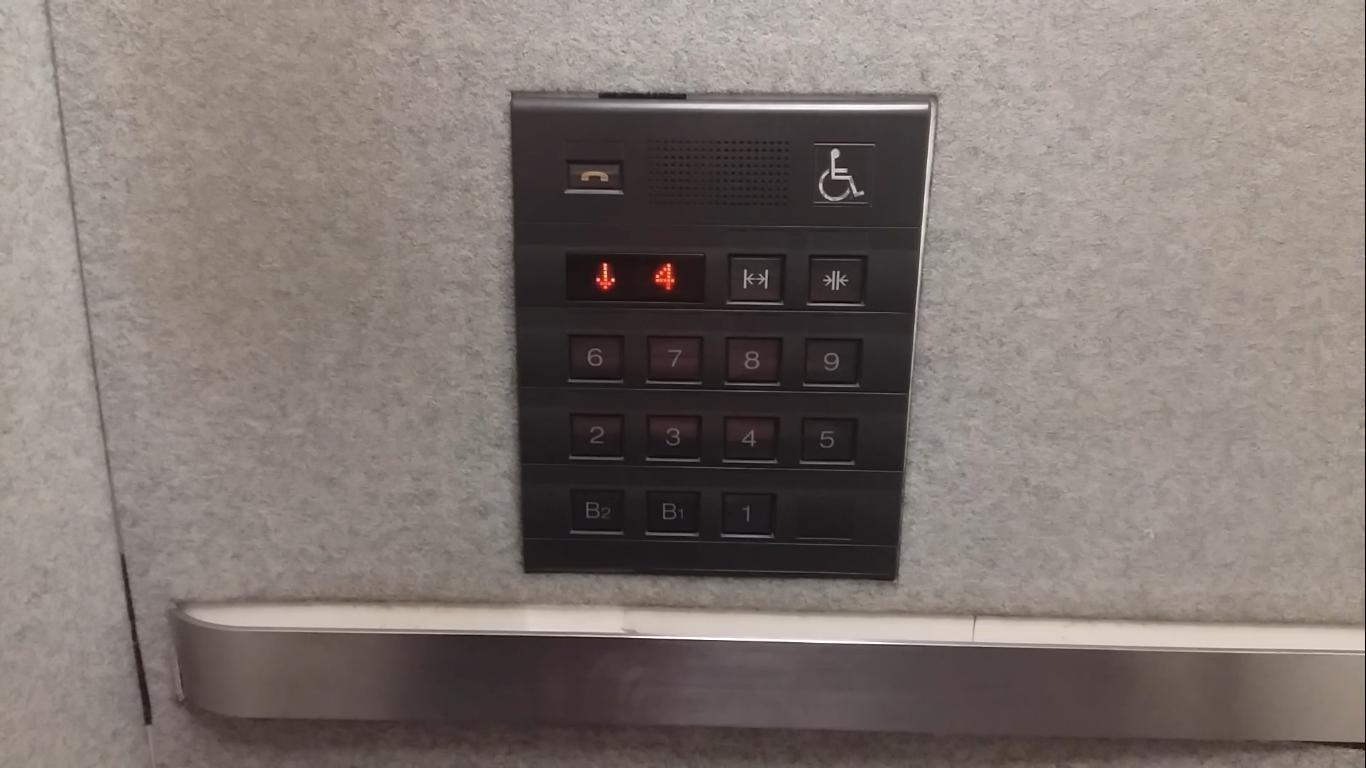1: (715, 486, 781, 538)
2: (563, 407, 626, 461)
3: (637, 410, 706, 462)
4: (716, 410, 783, 464)
5: (795, 411, 862, 466)
6: (563, 329, 627, 383)
7: (643, 331, 703, 383)
8: (720, 330, 783, 387)
9: (800, 332, 864, 387)
B1: (639, 484, 704, 537)
B2: (566, 481, 628, 535)
call: (558, 157, 625, 194)
close: (806, 255, 867, 307)
led: (564, 248, 707, 301)
open: (724, 253, 785, 305)
unknown: (804, 139, 878, 205)
